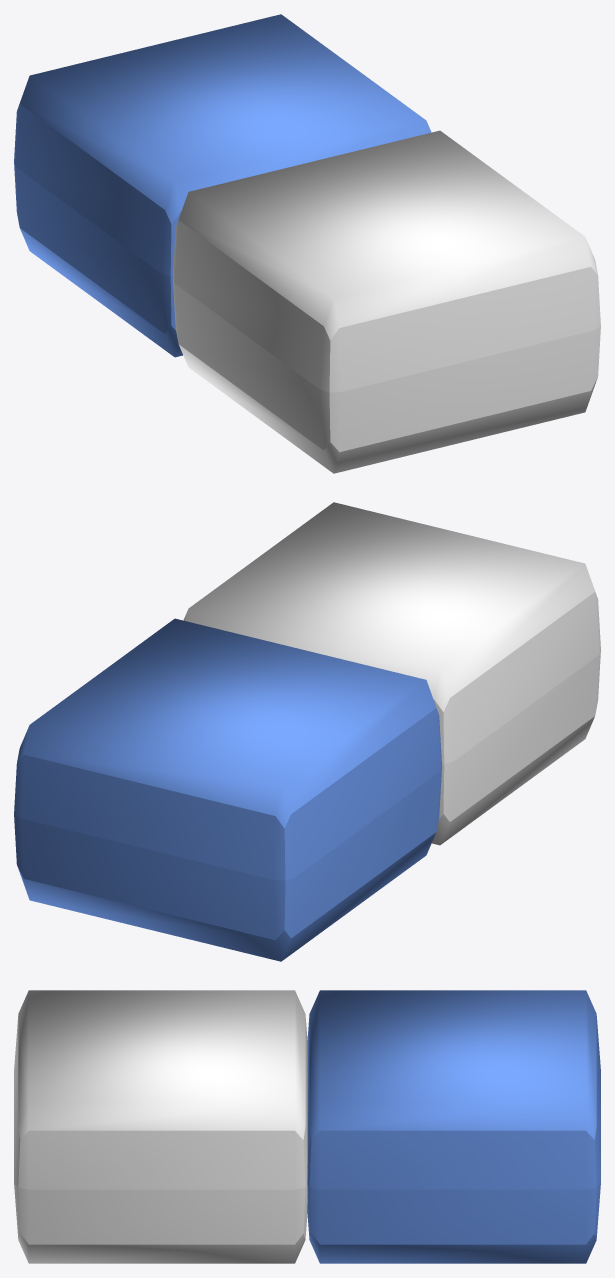
Rendered from Border.fbx.
The picture shows the model from 3 angles, top to bottom: view 1: azimuth 30°, elevation 25°; view 2: azimuth 150°, elevation 25°; view 3: azimuth 270°, elevation 25°; orthographic projection. The views are drawn at different scales.
Visible parts, largest first — view 1: Cube.010, Cube.011; view 2: Cube.011, Cube.010; view 3: Cube.010, Cube.011.
Boxes of the visible parts, x1,y1,x2,y2 form: Cube.010: [173, 130, 600, 473]; Cube.011: [14, 14, 431, 357]; Cube.011: [14, 618, 441, 961]; Cube.010: [183, 502, 600, 845]; Cube.010: [14, 990, 307, 1263]; Cube.011: [307, 990, 600, 1263].
Size of the model in its own units: 50 by 30 by 99.21.
1 material, 1 textured.
